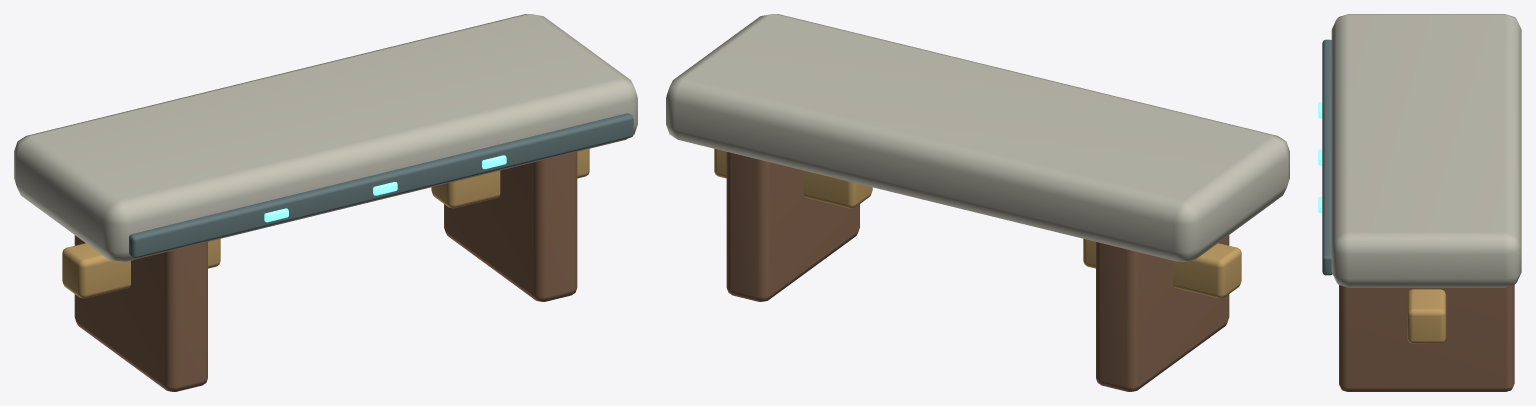
Rendered from SM_KlingenhofBench_01.fbx.
3 renders of one model, left to right at view 1: azimuth 30°, elevation 25°; view 2: azimuth 150°, elevation 25°; view 3: azimuth 270°, elevation 25°, orthographic. The views are drawn at different scales.
Visible parts, largest first — view 1: SM_KlingenhofBench_01; view 2: SM_KlingenhofBench_01; view 3: SM_KlingenhofBench_01.
Boxes of the visible parts, x1,y1,x2,y2 form: SM_KlingenhofBench_01: (14,14,637,391); SM_KlingenhofBench_01: (666,14,1289,391); SM_KlingenhofBench_01: (1318,14,1521,391).
Size of the model in its own units: 2.25 by 0.825 by 0.835.
